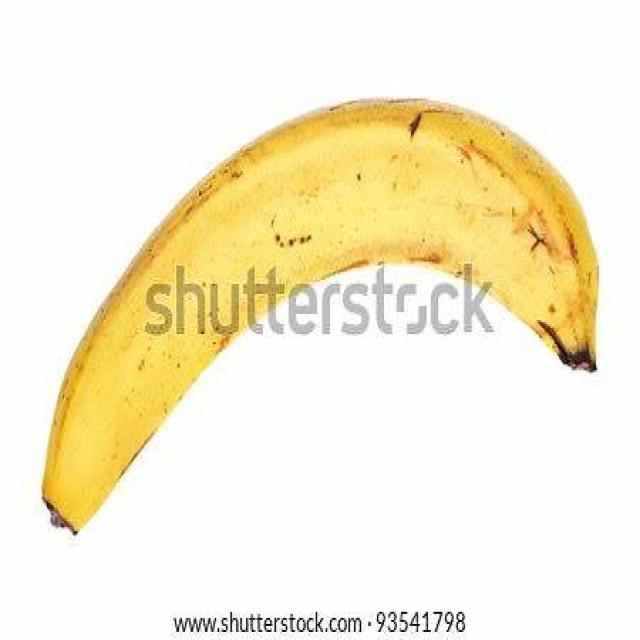Banana: (38, 106, 600, 535)
